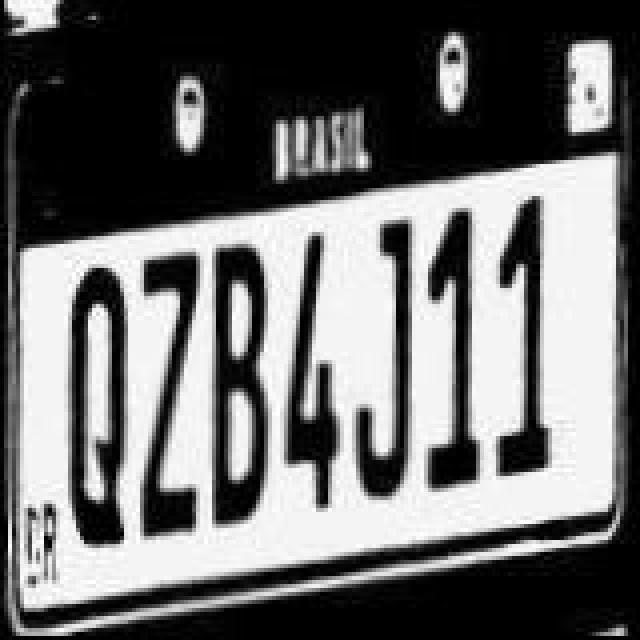1: (416, 206, 496, 490), (490, 196, 558, 476)
4: (280, 234, 352, 514)
B: (204, 232, 288, 520)
J: (354, 216, 422, 504)
Q: (48, 252, 148, 548)
Z: (124, 230, 216, 538)
